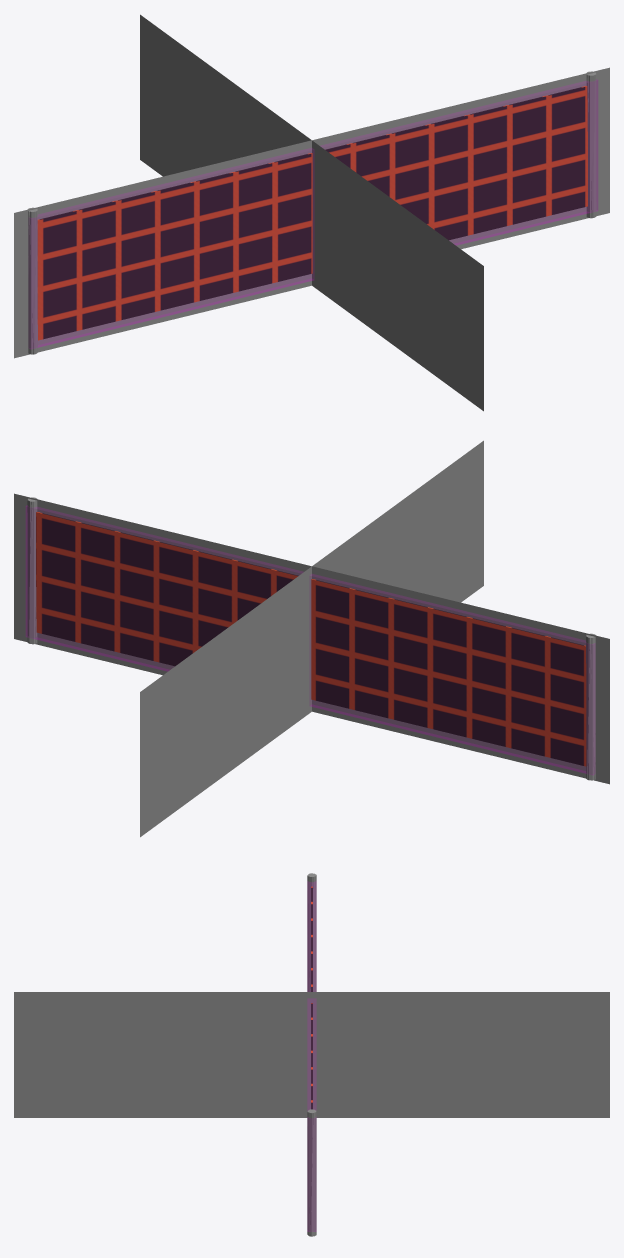
The model's file is safetynet_orange_5m.dae.
3 renders of one model, top to bottom at view 1: azimuth 30°, elevation 25°; view 2: azimuth 150°, elevation 25°; view 3: azimuth 270°, elevation 25°, orthographic. The views are drawn at different scales.
Visible parts, largest first — view 1: safetynet_orange_5m_a800, Colmesh_panel-1, safetynet_orange_5m_a50, safetynet_orange_5m_a200; view 2: safetynet_orange_5m_a800, Colmesh_panel-1, safetynet_orange_5m_a50, safetynet_orange_5m_a200; view 3: safetynet_orange_5m_a50, safetynet_orange_5m_a800, Colmesh_panel-1, safetynet_orange_5m_a200.
Part boxes in pixels (<box>): safetynet_orange_5m_a800: <box>28,71,596,354</box>; Colmesh_panel-1: <box>29,79,597,348</box>; safetynet_orange_5m_a50: <box>14,14,609,411</box>; safetynet_orange_5m_a200: <box>28,72,596,354</box>; safetynet_orange_5m_a800: <box>27,497,595,780</box>; Colmesh_panel-1: <box>26,506,594,774</box>; safetynet_orange_5m_a50: <box>14,440,609,837</box>; safetynet_orange_5m_a200: <box>27,497,595,779</box>; safetynet_orange_5m_a50: <box>14,992,609,1117</box>; safetynet_orange_5m_a800: <box>307,873,316,1236</box>; Colmesh_panel-1: <box>307,882,316,1231</box>; safetynet_orange_5m_a200: <box>307,873,316,1236</box>.
Bounding box in the file's own units: 5.25 × 5.25 × 1.22.
Materials: 3 (1 with a texture image).
